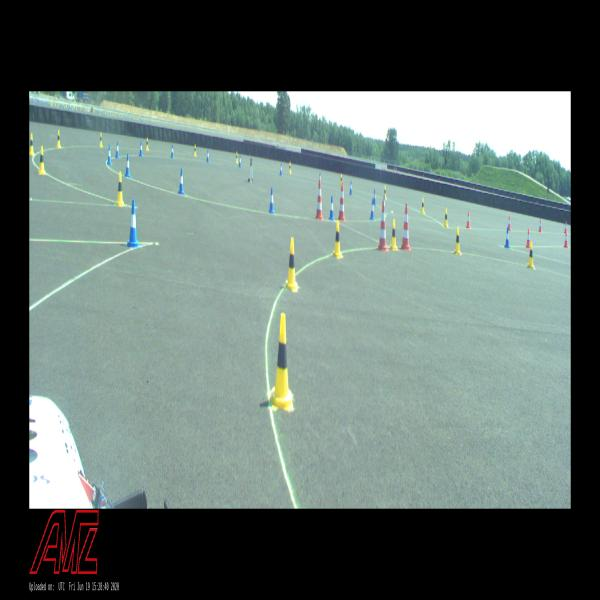blue_cone: (126, 200, 140, 247), (178, 168, 185, 194), (268, 187, 274, 214), (125, 153, 131, 178), (504, 227, 510, 248), (329, 196, 334, 220), (107, 145, 112, 165), (370, 199, 374, 220), (116, 140, 120, 158), (139, 141, 143, 156), (383, 195, 386, 215), (206, 150, 210, 163), (373, 189, 376, 205), (171, 144, 174, 159), (318, 173, 321, 185), (350, 181, 352, 195), (239, 154, 241, 168), (280, 163, 282, 176)
large_orange_cone: (376, 201, 389, 252), (399, 203, 411, 250), (315, 179, 323, 220), (338, 182, 346, 220)
orange_cone: (466, 211, 471, 229), (526, 228, 530, 248), (564, 230, 568, 248), (508, 215, 511, 231), (539, 219, 542, 232), (564, 222, 566, 233)
yellow_cone: (271, 313, 293, 411), (286, 238, 298, 292), (332, 220, 343, 258), (116, 172, 124, 206), (390, 219, 397, 250), (454, 226, 461, 255), (39, 146, 46, 174), (527, 242, 534, 268), (30, 134, 34, 155), (444, 209, 448, 228), (57, 130, 61, 148), (288, 161, 292, 175), (100, 132, 103, 148), (421, 198, 424, 213), (384, 186, 387, 199), (194, 144, 197, 157), (146, 137, 149, 150), (236, 151, 238, 164), (340, 174, 342, 185)
